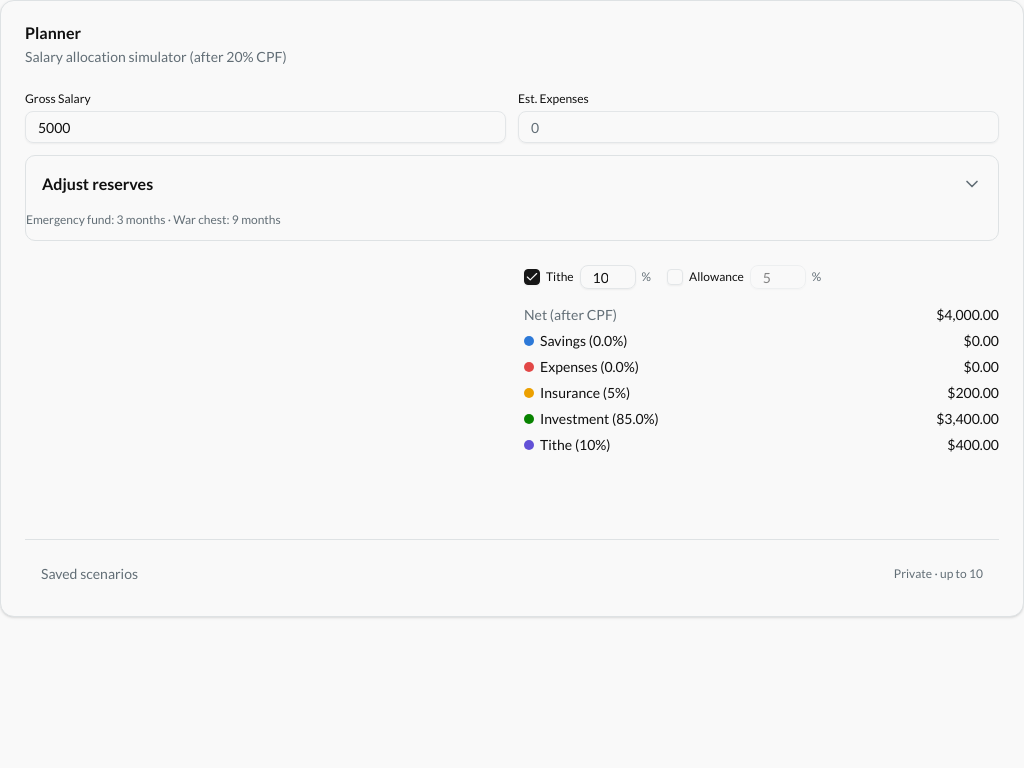
it: returns keyboard focus to the initiating row on Escape without saving
Click the button "Saved scenarios Private · up to 10". click: (90, 574)
box: [25,556,999,592]
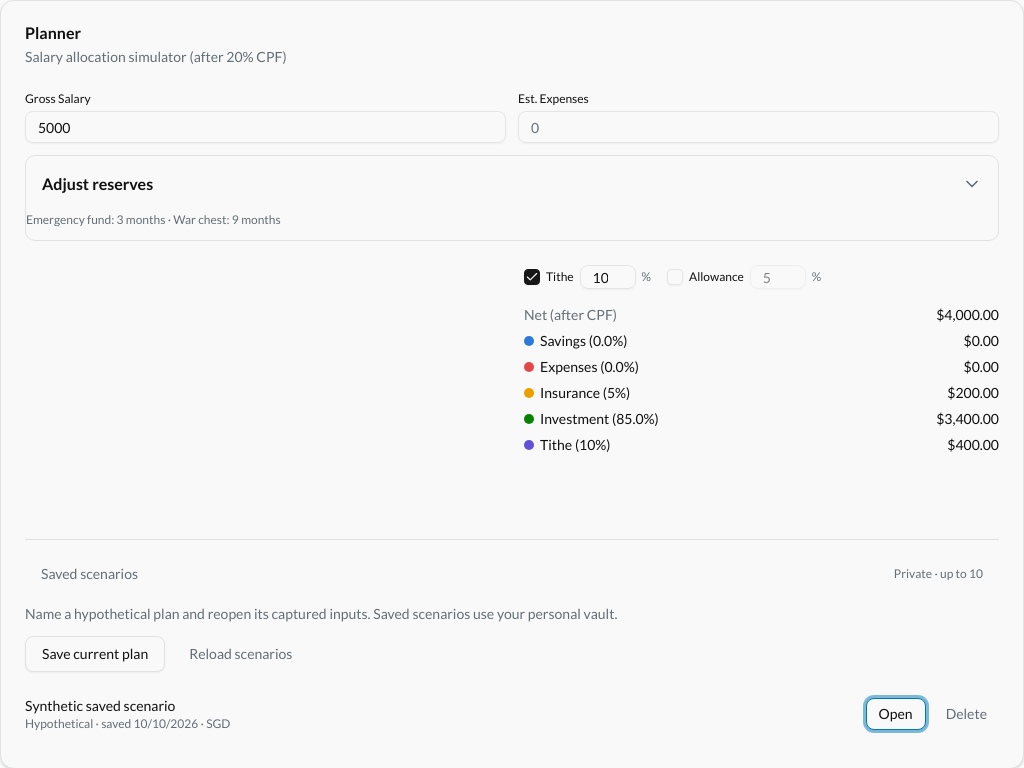
Click the button with aria-label "Open Synthetic saved scenario". click: (896, 714)
box: [866,698,926,730]
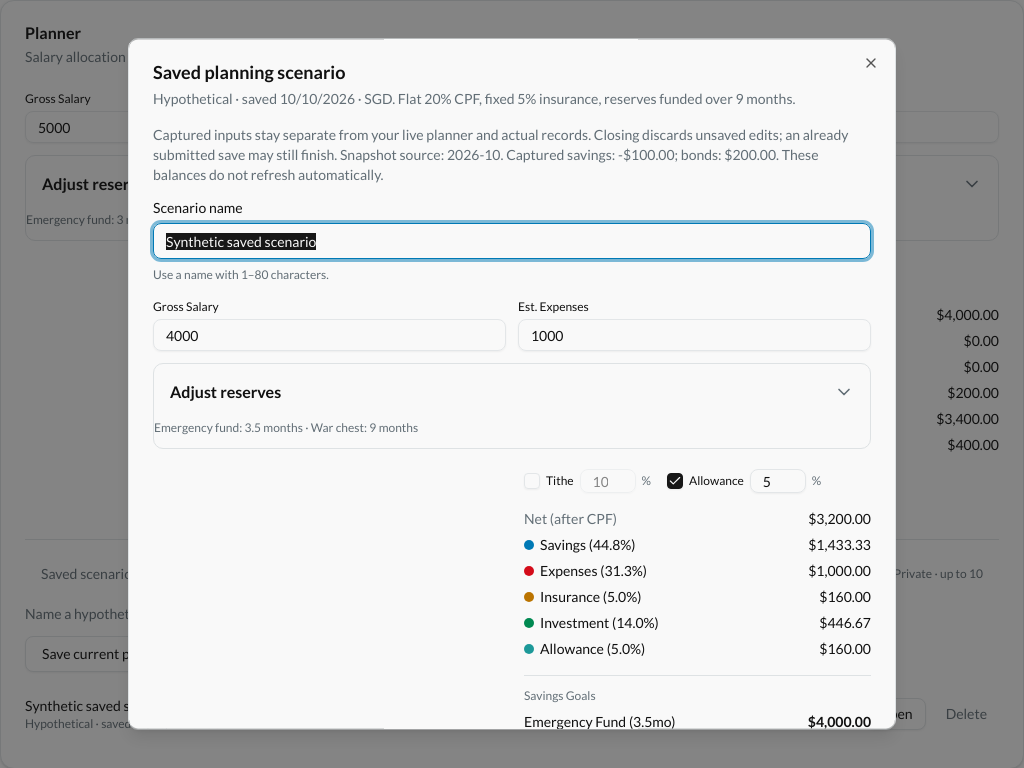
Press Escape in the field labelled "Scenario name", box [153,223,871,259]
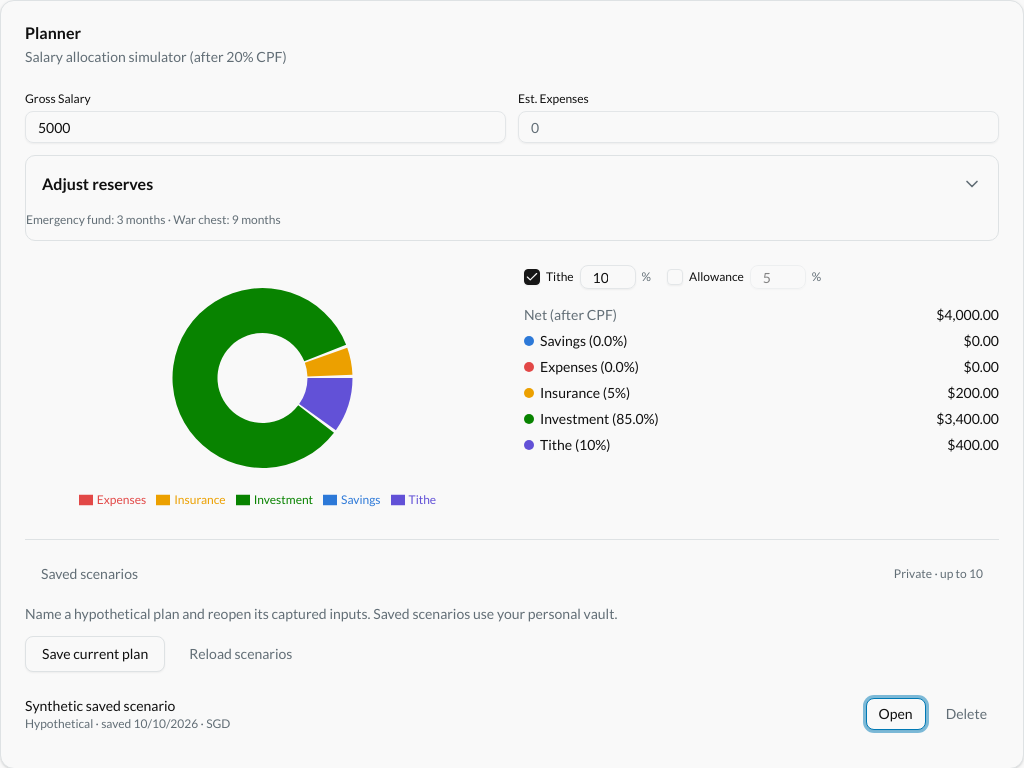
Expected: the dialog is gone
